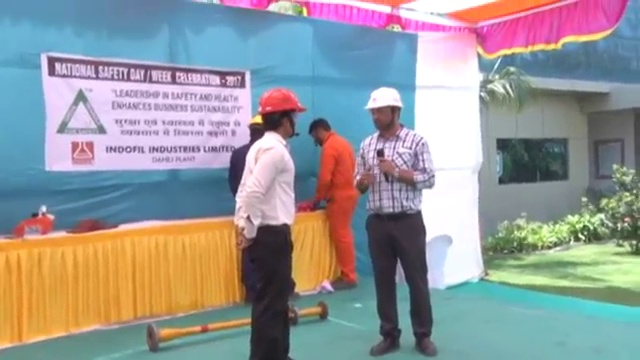helmet: (257, 84, 308, 115), (364, 84, 406, 111), (246, 113, 265, 127)
helmet_off: (307, 115, 331, 149)
helmet_on: (257, 83, 310, 144), (363, 84, 407, 142), (243, 113, 267, 145)
person: (354, 84, 438, 357), (235, 88, 306, 360), (307, 114, 359, 288), (229, 113, 266, 197)
